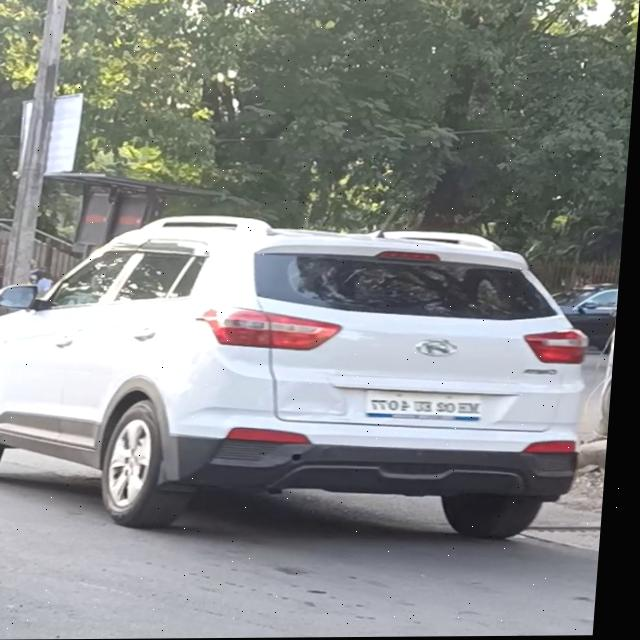plate: (368, 391, 492, 426)
